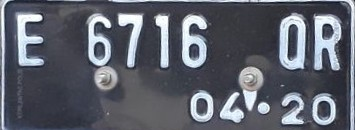plate: (1, 1, 355, 129)
